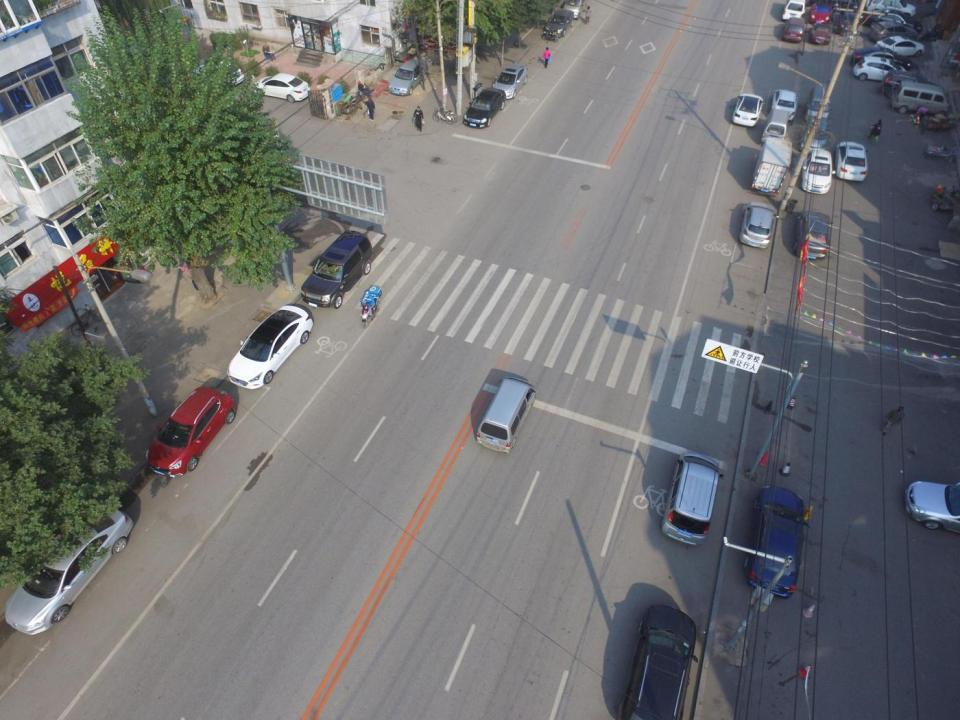car: (4, 502, 134, 636), (617, 603, 699, 720), (145, 386, 237, 478), (744, 485, 810, 599), (226, 304, 314, 389), (660, 450, 724, 546), (301, 229, 374, 309), (905, 480, 960, 535), (880, 70, 946, 102), (792, 210, 834, 260), (739, 200, 780, 249), (852, 56, 913, 86), (462, 87, 506, 128), (851, 46, 915, 74), (254, 72, 310, 103), (800, 148, 835, 195), (388, 57, 427, 96), (864, 8, 922, 34), (834, 141, 869, 183), (492, 63, 528, 100), (876, 34, 925, 59), (731, 93, 765, 128), (869, 20, 918, 42), (865, 0, 917, 18), (544, 7, 574, 38), (772, 89, 800, 122), (838, 10, 860, 36), (810, 2, 834, 25), (809, 22, 832, 45)
truck: (750, 135, 791, 194)
van: (476, 376, 537, 454), (891, 80, 950, 117), (761, 108, 789, 145), (782, 16, 805, 44), (562, 0, 590, 21), (782, 0, 806, 23)
